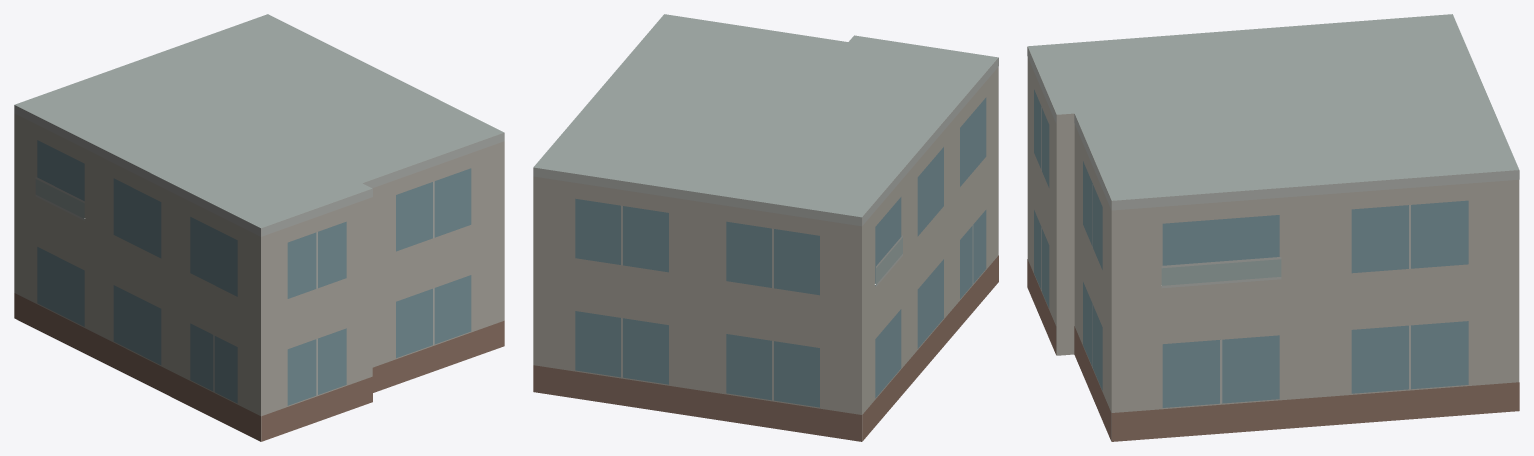
The model's file is survey-upis-32704832.glb.
3 views of the same model, side by side, from view 1: azimuth 30°, elevation 25°; view 2: azimuth 150°, elevation 25°; view 3: azimuth 270°, elevation 25° (orthographic). The views are drawn at different scales.
Visible parts, largest first — view 1: survey-upis-32704832.tmp; view 2: survey-upis-32704832.tmp; view 3: survey-upis-32704832.tmp.
Part boxes in pixels (bbox=[...]): survey-upis-32704832.tmp: bbox=[14, 14, 504, 441]; survey-upis-32704832.tmp: bbox=[533, 14, 998, 441]; survey-upis-32704832.tmp: bbox=[1027, 14, 1519, 441].
Size of the model in its own units: 10.15 by 6.1 by 11.3.
